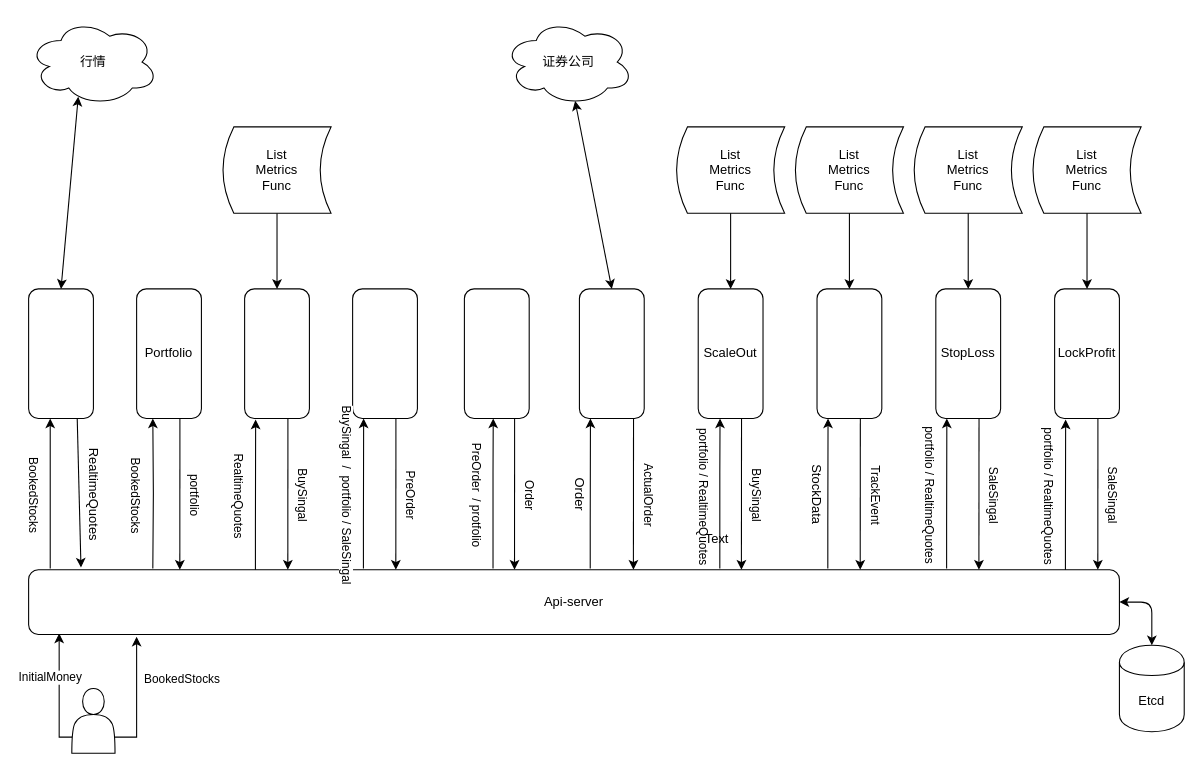
Image size: 1203x772. Some labels were removed from this diagram. The shapes that lost their labels are listed below. From the top down, each one's box as (x1, y1, x2, y2) in pixels, then its label:
(28, 288, 93, 418): Quote
(244, 288, 309, 418): Entry
(352, 288, 417, 418): Position
(463, 288, 529, 418): Risk
(578, 288, 644, 418): broker
(816, 288, 882, 418): BackTest
